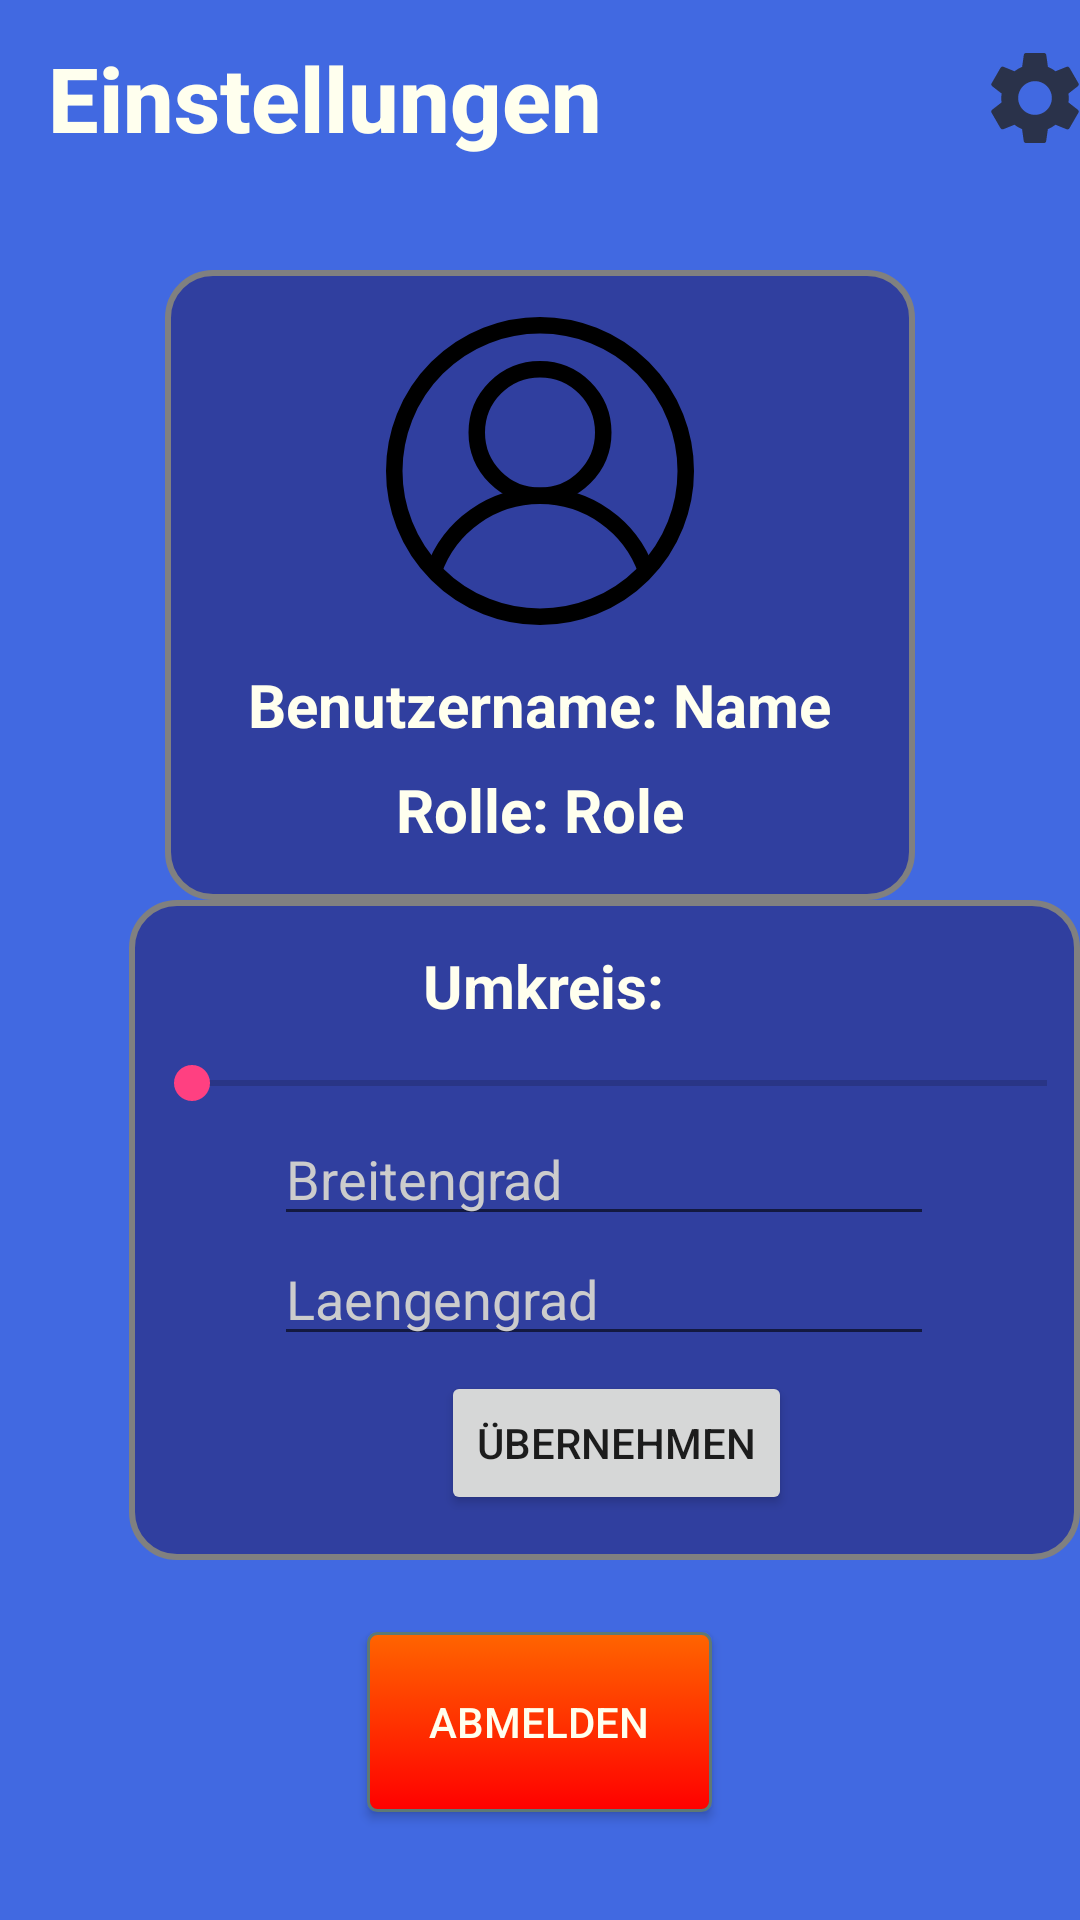

Icons on this 1080*1920 Android screen, each with the point to tap as (x=x, y=y):
abstract user: (x=540, y=471)
settings: (x=1035, y=98)
